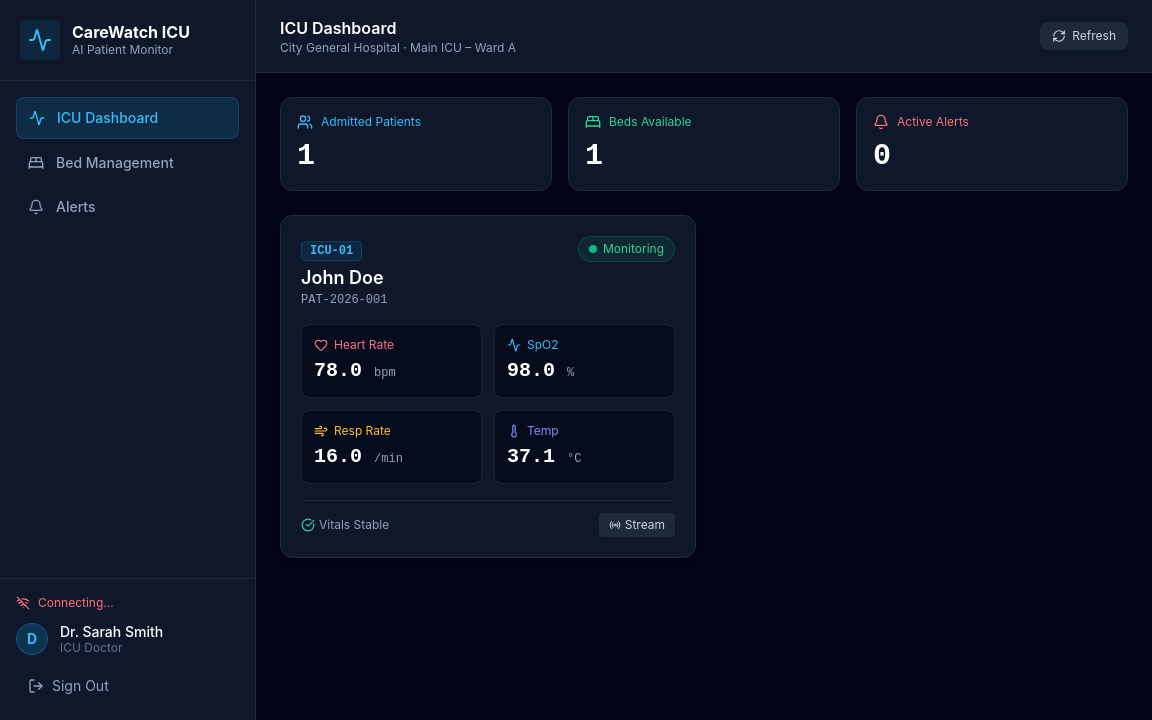
Test: Dashboard Component › switches tabs to Bed Management and Alerts view
Expected: the heading "John Doe" is shown, [301,264,387,292]
Click the button "Bed Management": (128, 163) [16,143,239,183]
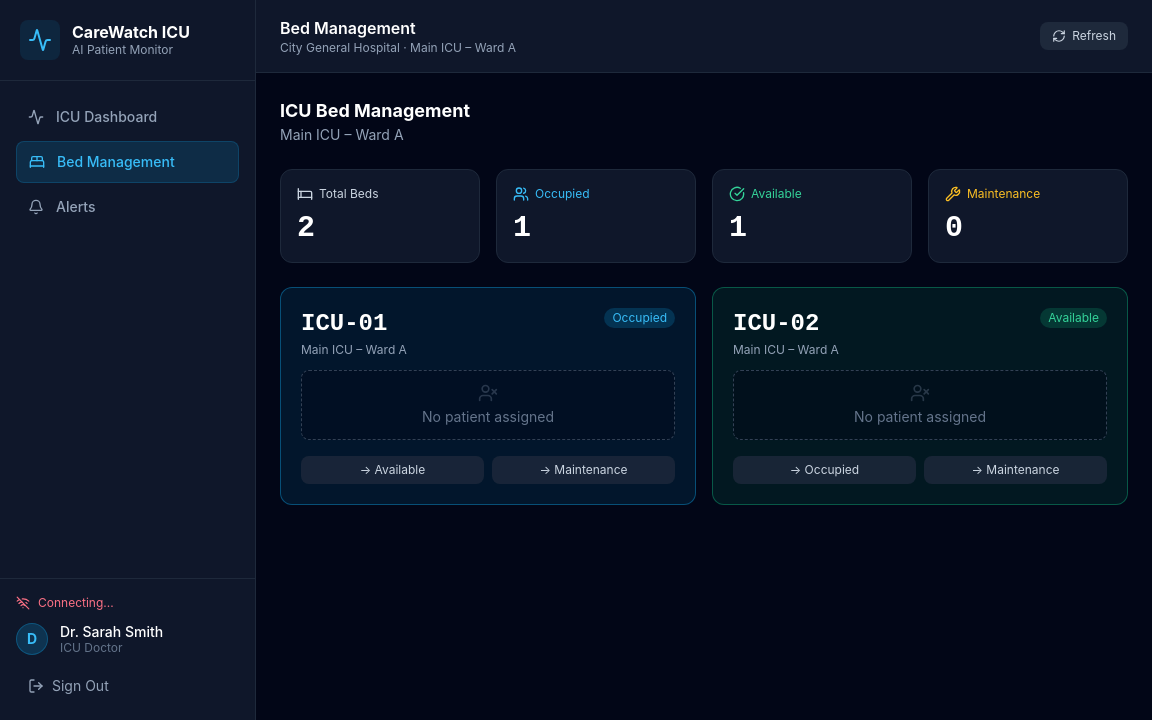
Click the button "Alerts": (128, 207) [16,187,239,227]
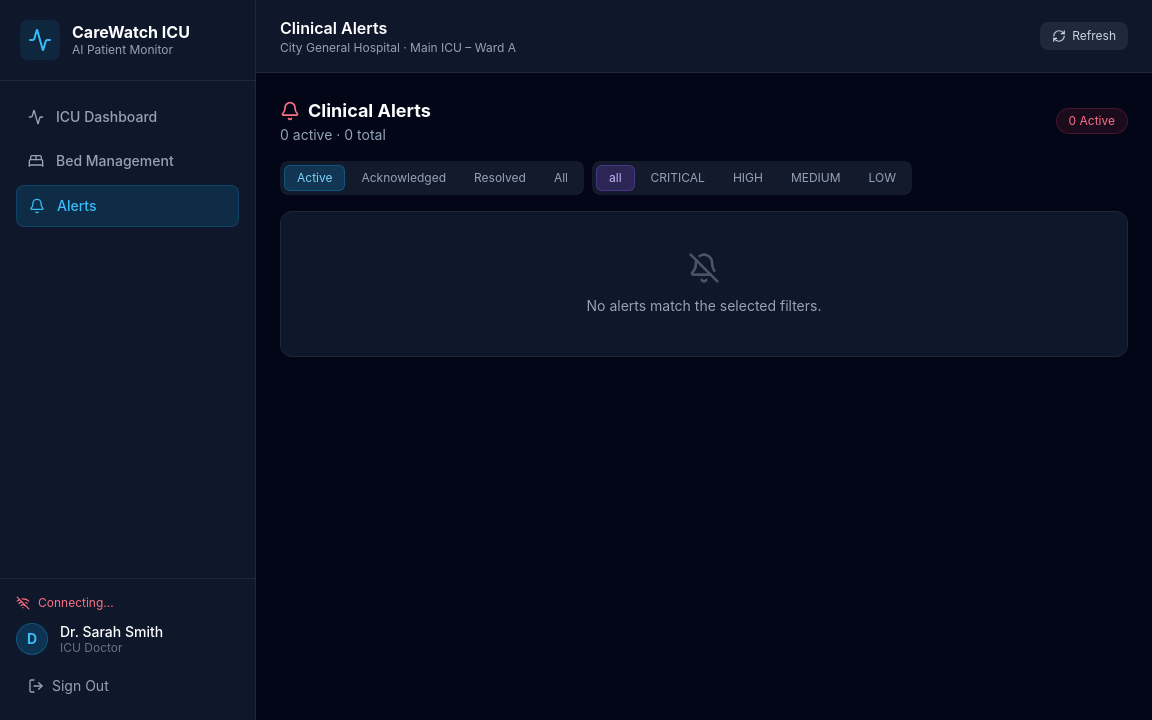
Expected: the 1st heading "Clinical Alerts" is shown, [280,18,387,38]
